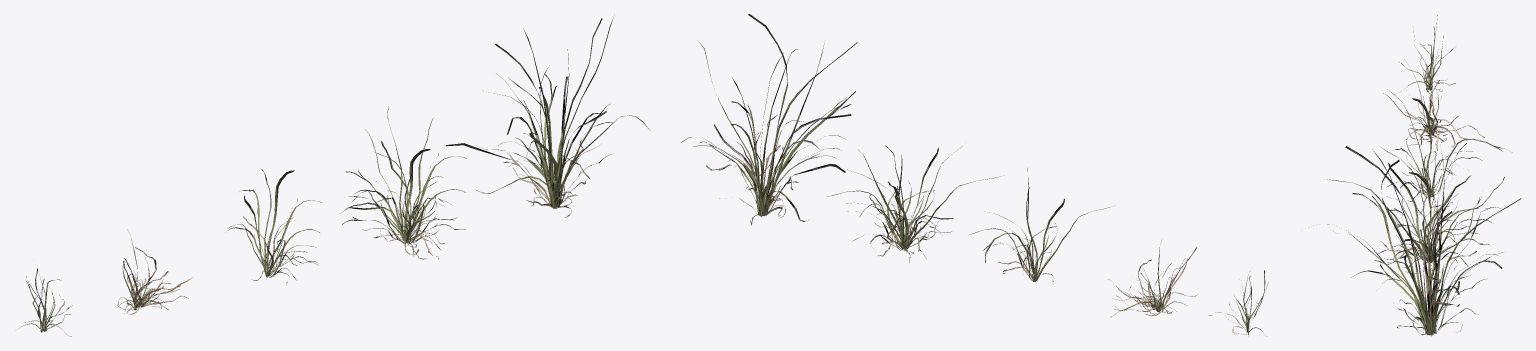
File: grass_medium_02_1k.gltf
3 views of the same model, side by side, from view 1: azimuth 30°, elevation 25°; view 2: azimuth 150°, elevation 25°; view 3: azimuth 270°, elevation 25° (orthographic). The views are drawn at different scales.
Parts seen in each view (by area): view 1: grass_medium_02_e, grass_medium_02_d, grass_medium_02_c, grass_medium_02_b, grass_medium_02_a; view 2: grass_medium_02_e, grass_medium_02_d, grass_medium_02_c, grass_medium_02_b, grass_medium_02_a; view 3: grass_medium_02_e, grass_medium_02_d, grass_medium_02_c, grass_medium_02_b, grass_medium_02_a.
Part boxes in pixels (x1,y1,x2,y2): grass_medium_02_e: (446, 17, 649, 217); grass_medium_02_d: (340, 106, 466, 259); grass_medium_02_c: (227, 169, 321, 283); grass_medium_02_b: (117, 238, 192, 314); grass_medium_02_a: (20, 268, 72, 336); grass_medium_02_e: (681, 14, 857, 225); grass_medium_02_d: (827, 145, 1000, 262); grass_medium_02_c: (969, 168, 1109, 281); grass_medium_02_b: (1108, 242, 1197, 317); grass_medium_02_a: (1209, 270, 1268, 335); grass_medium_02_e: (1327, 146, 1521, 336); grass_medium_02_d: (1327, 143, 1504, 273); grass_medium_02_c: (1386, 89, 1512, 214); grass_medium_02_b: (1383, 56, 1484, 150); grass_medium_02_a: (1399, 15, 1455, 92).
Size of the model in its own units: 1.31 by 0.4053 by 0.4326.
Materials: 1 (1 with a texture image).
